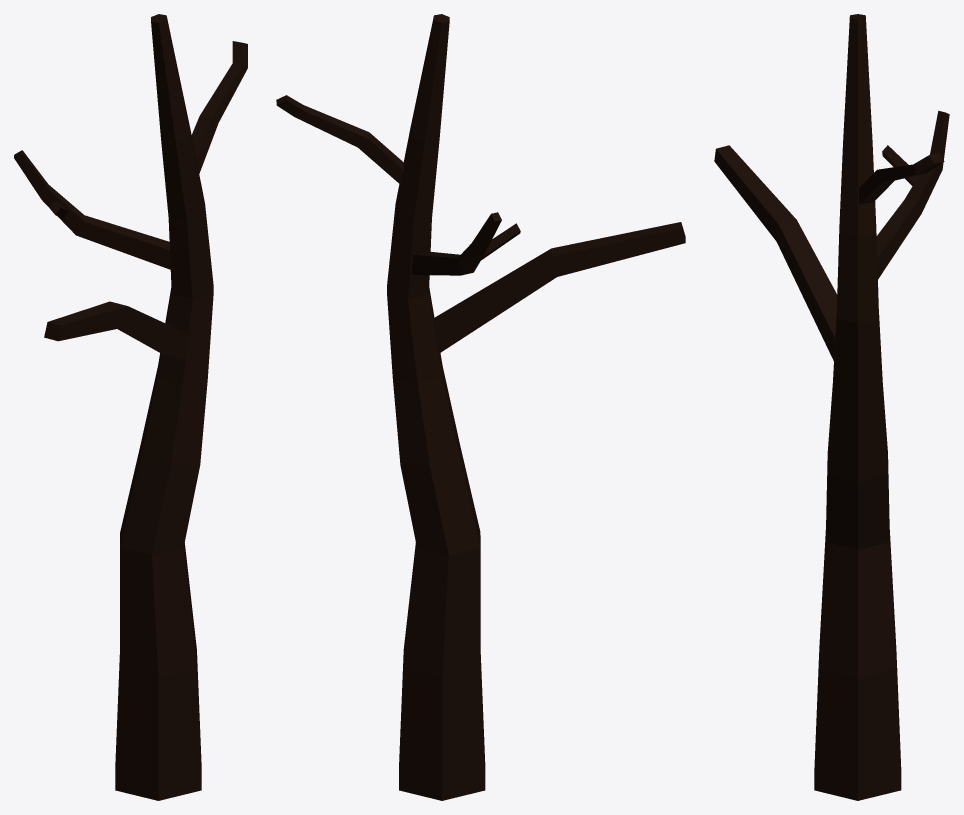
File: WinterTree001.FBX
3 views of the same model, side by side, from view 1: azimuth 30°, elevation 25°; view 2: azimuth 150°, elevation 25°; view 3: azimuth 270°, elevation 25° (orthographic).
Visible parts, largest first — view 1: Cylinder001; view 2: Cylinder001; view 3: Cylinder001.
Part boxes in pixels (left/top/right/bottom): Cylinder001: left=14, top=14, right=247, bottom=800; Cylinder001: left=276, top=14, right=685, bottom=800; Cylinder001: left=714, top=14, right=949, bottom=800.
Size of the model in its own units: 79.69 by 189 by 52.87.
